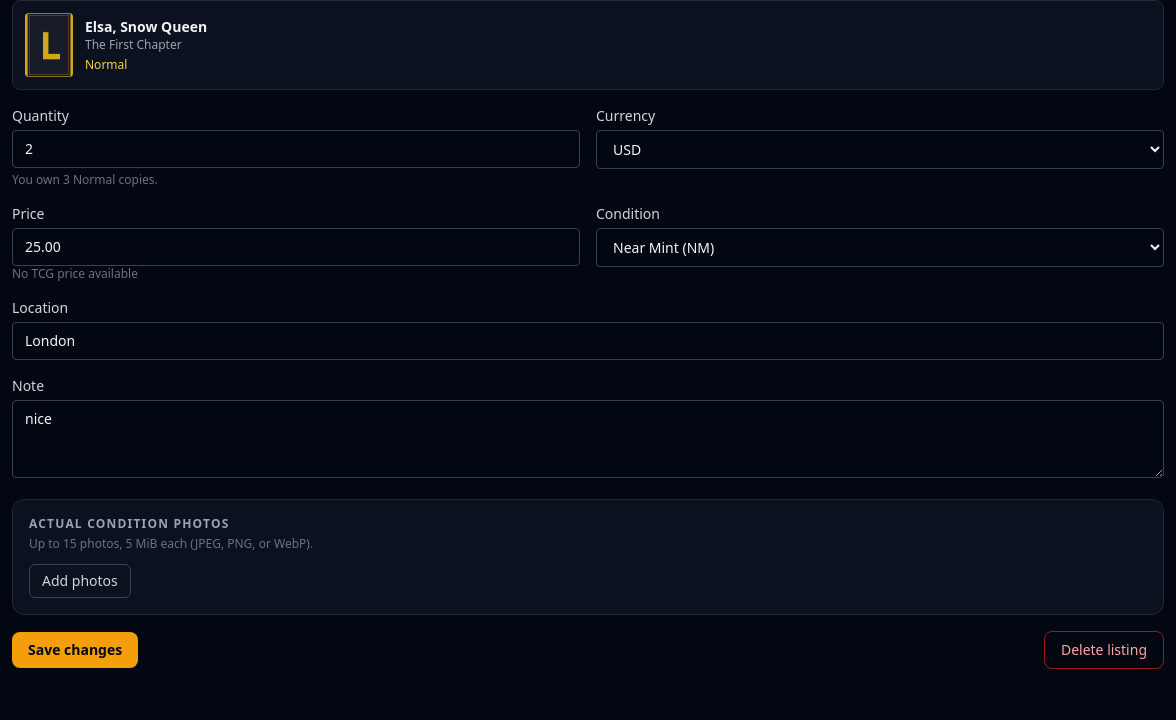
it: ListingForm › surfaces a delete error and keeps the form usable
This screenshot has width=1176, height=720.
What coordinates should you click on to do the following:
click the button "Delete listing"
I would click on:
 (1104, 650)
Its box is [1044,631,1164,669].
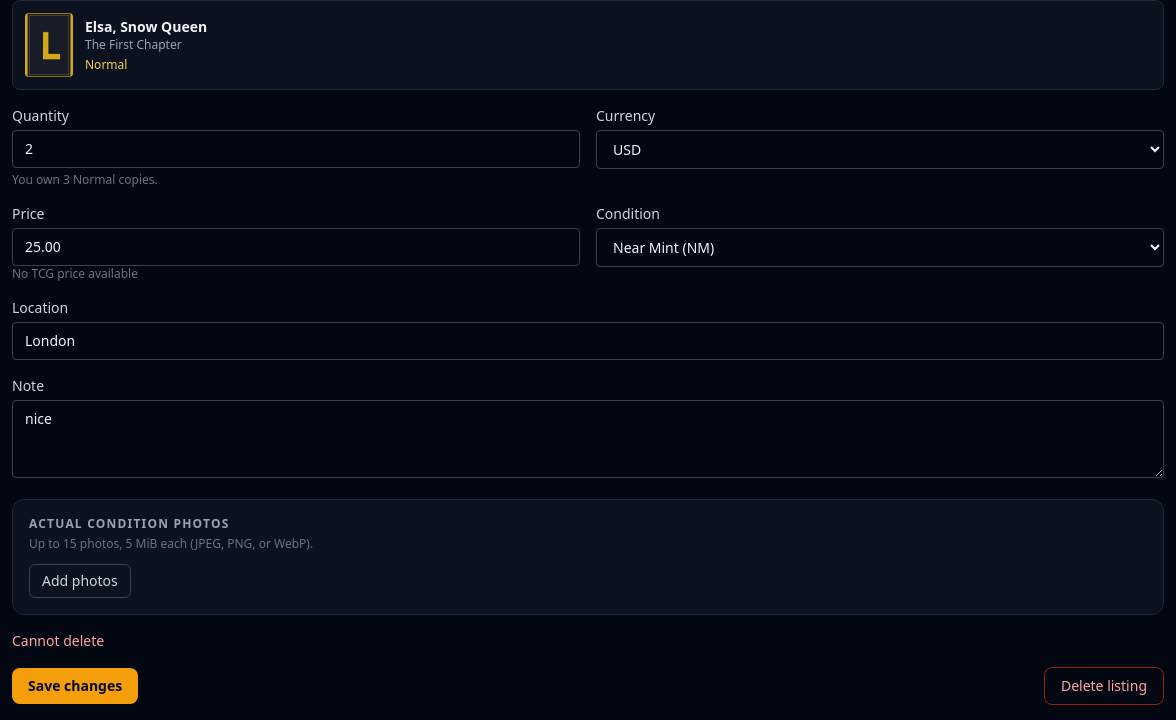
Now the text "Cannot delete" is shown, box [12,631,104,650]
